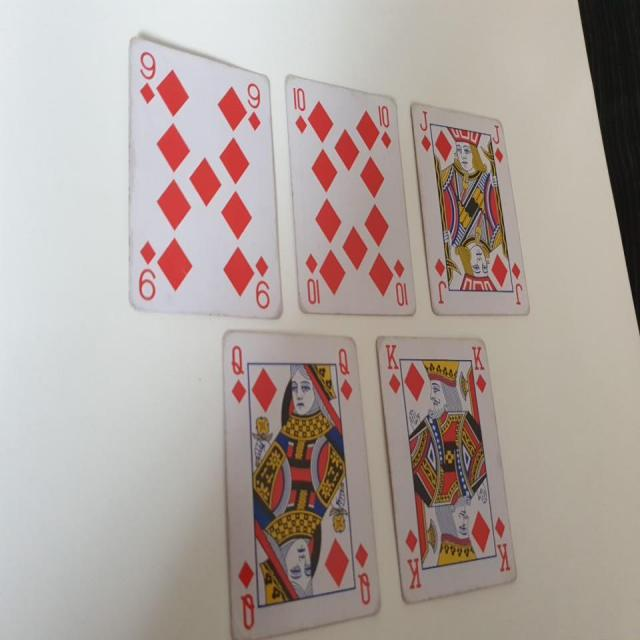10 Diamonds: (282, 74, 419, 317)
9 Diamonds: (125, 35, 284, 322)
J Diamonds: (408, 98, 532, 317)
K Diamonds: (374, 330, 519, 604)
Q Diamonds: (220, 327, 385, 640)
